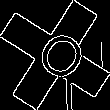O_SW: (23, 22, 87, 88)
